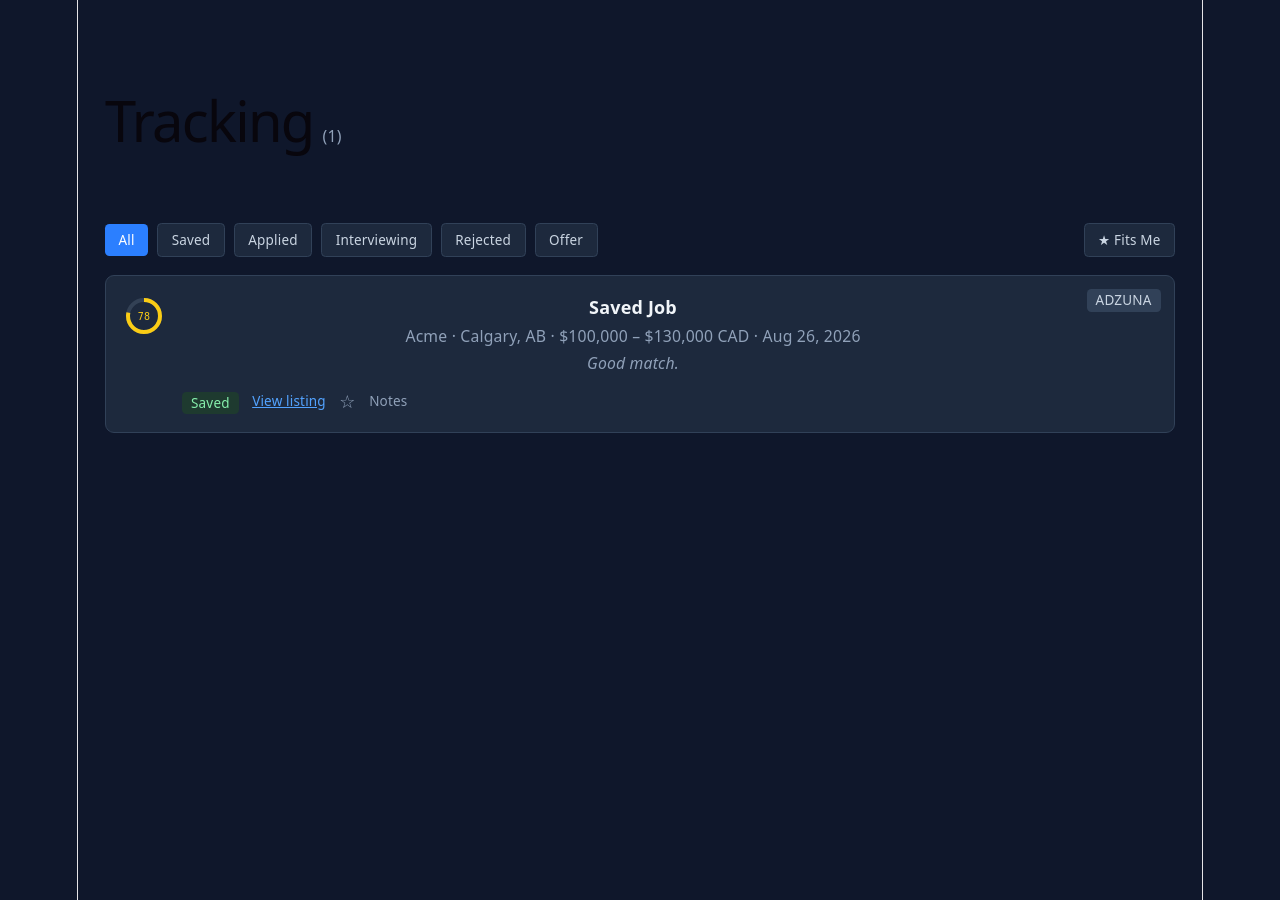
Test: Tracking › moves a job to its new tab immediately when status is changed via StatusDropdown, no refetch
Expected: the text "Saved Job" is shown, [589,295,677,319]
Currently on "All" tab, which includes the Saved job.
Click the button with test id "status-badge": (210, 403) [182,392,239,414]
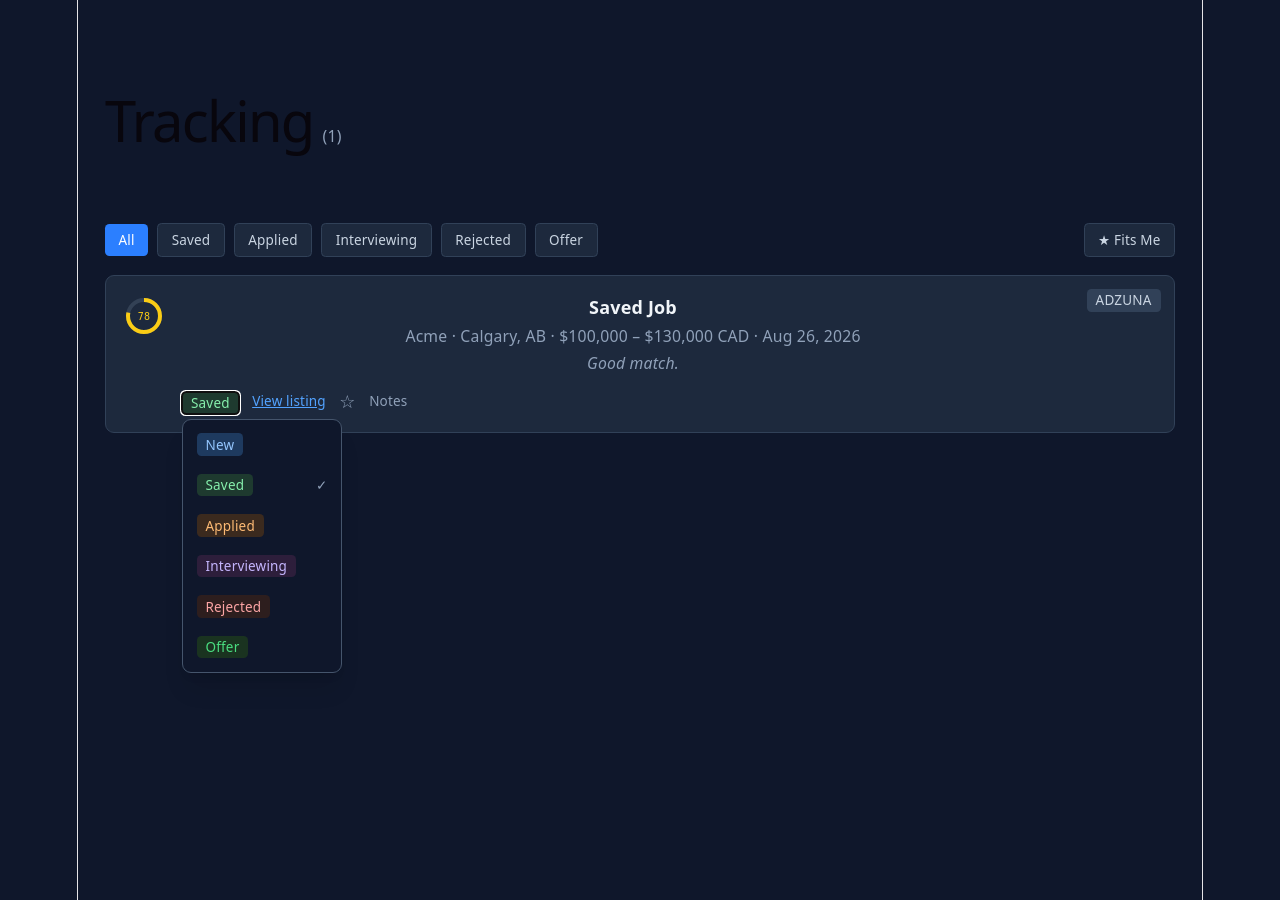
Click the option "Applied": (262, 526) [183,505,341,546]
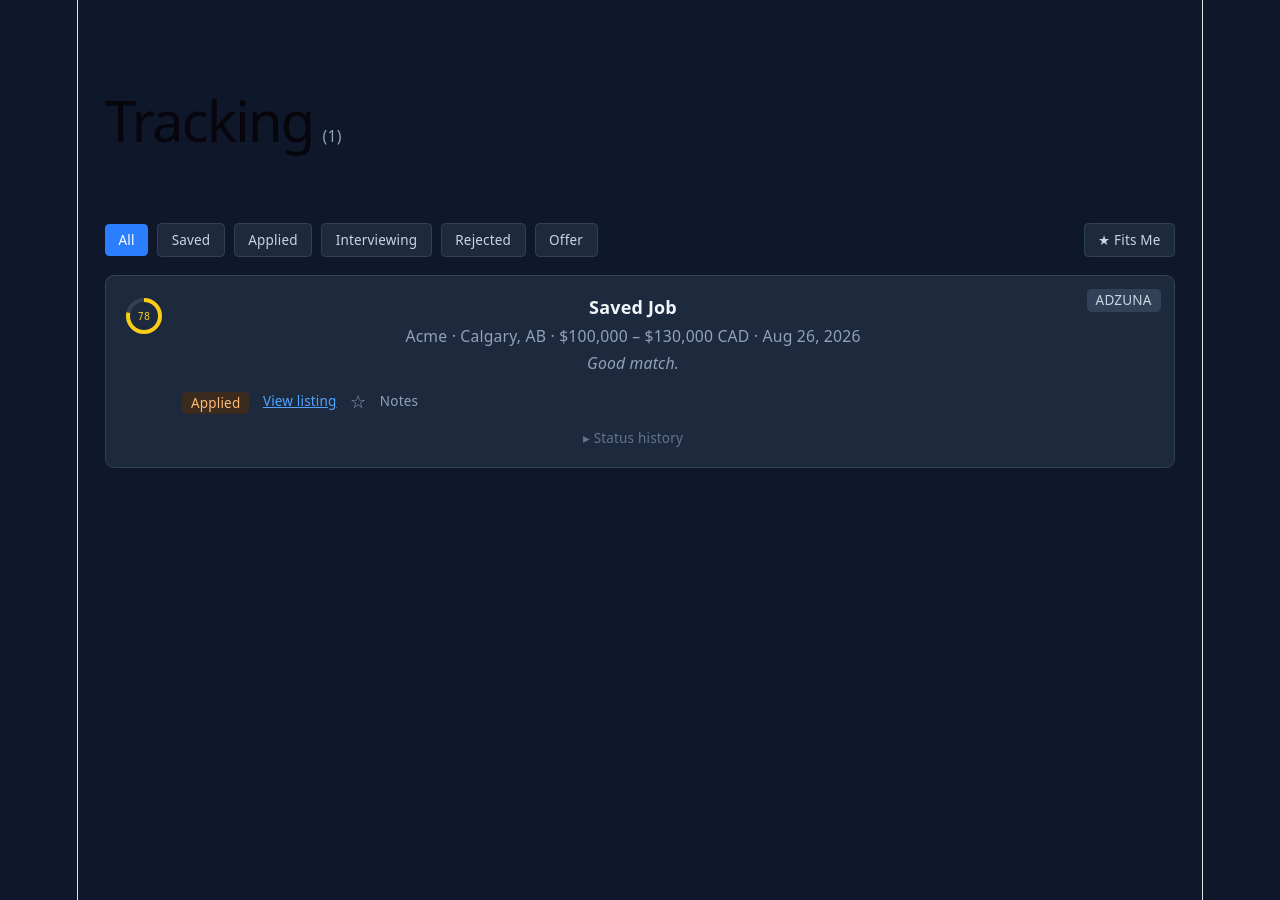
Result: the button with test id "status-badge" reads "Applied" at [182,392,249,414]
Switch to the Applied tab — job should show there without a refetch.
Click the 1st button "Applied": (273, 240) [234,223,312,257]
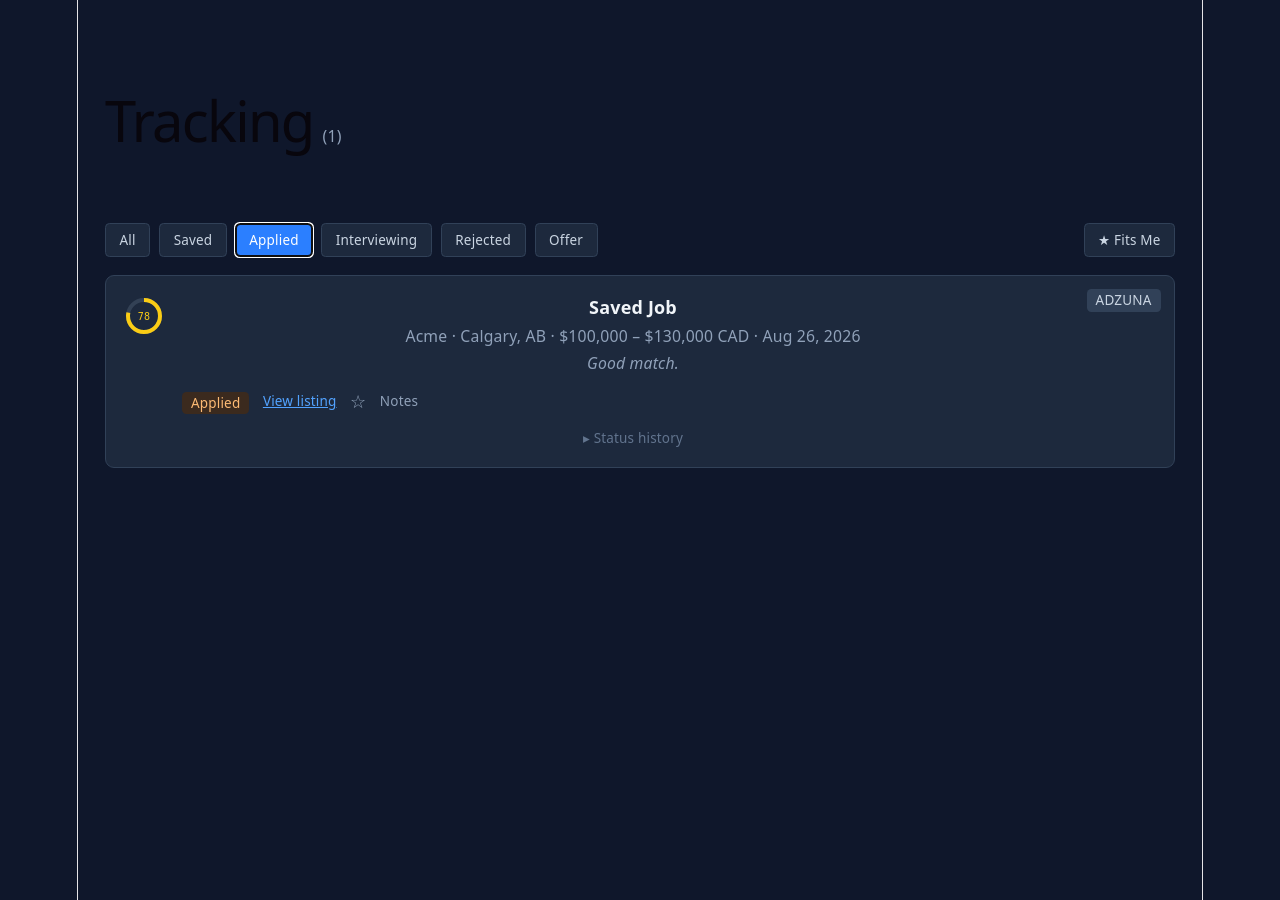
Expected: the text "Saved Job" is shown, [589,295,677,319]
Switch to Saved — job should no longer be there.
Click the button "Saved": (193, 240) [159,223,227,257]
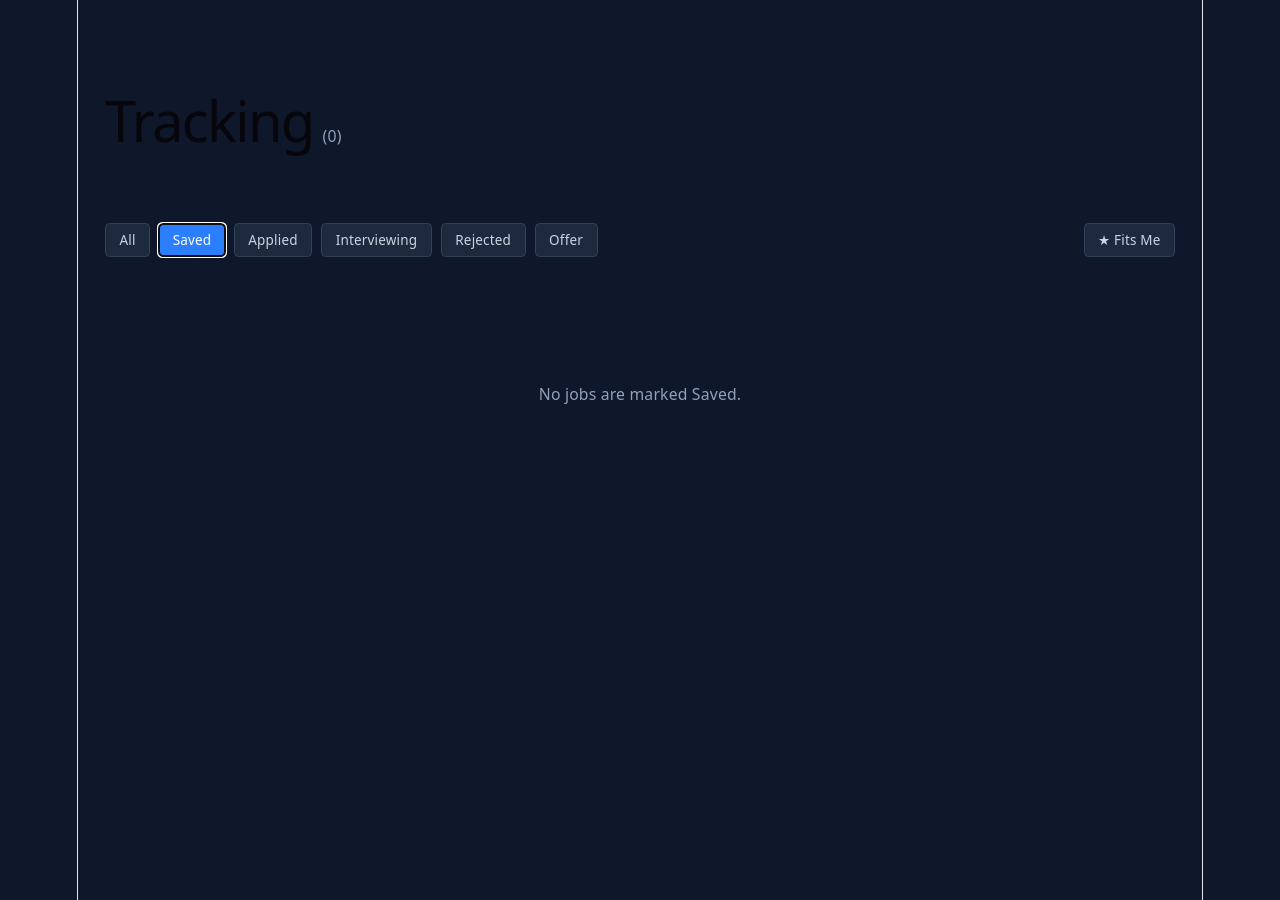
Result: the text "Saved Job" is gone
